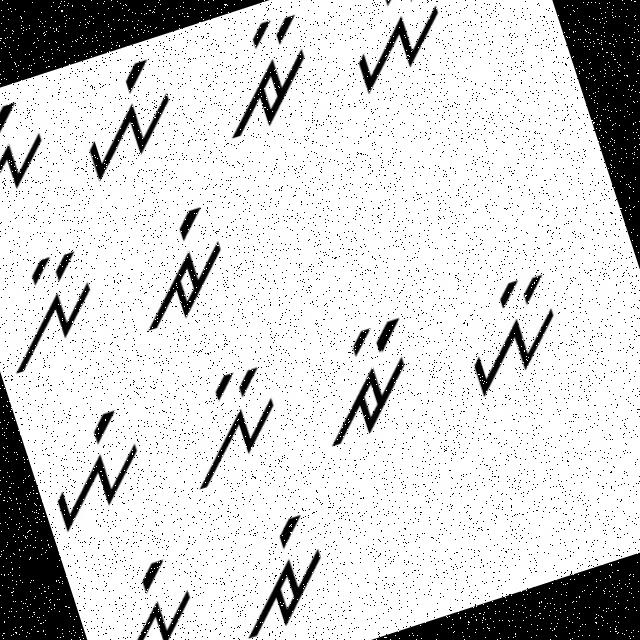lan: (162, 360, 300, 504), (0, 240, 117, 381)
lang: (81, 547, 222, 639), (0, 90, 69, 235)
ran: (296, 309, 440, 462), (200, 5, 332, 146)
rang: (210, 497, 347, 639), (110, 195, 246, 338)
yan: (444, 261, 585, 398), (327, 0, 468, 102)
yang: (60, 50, 198, 188), (28, 398, 164, 536)
